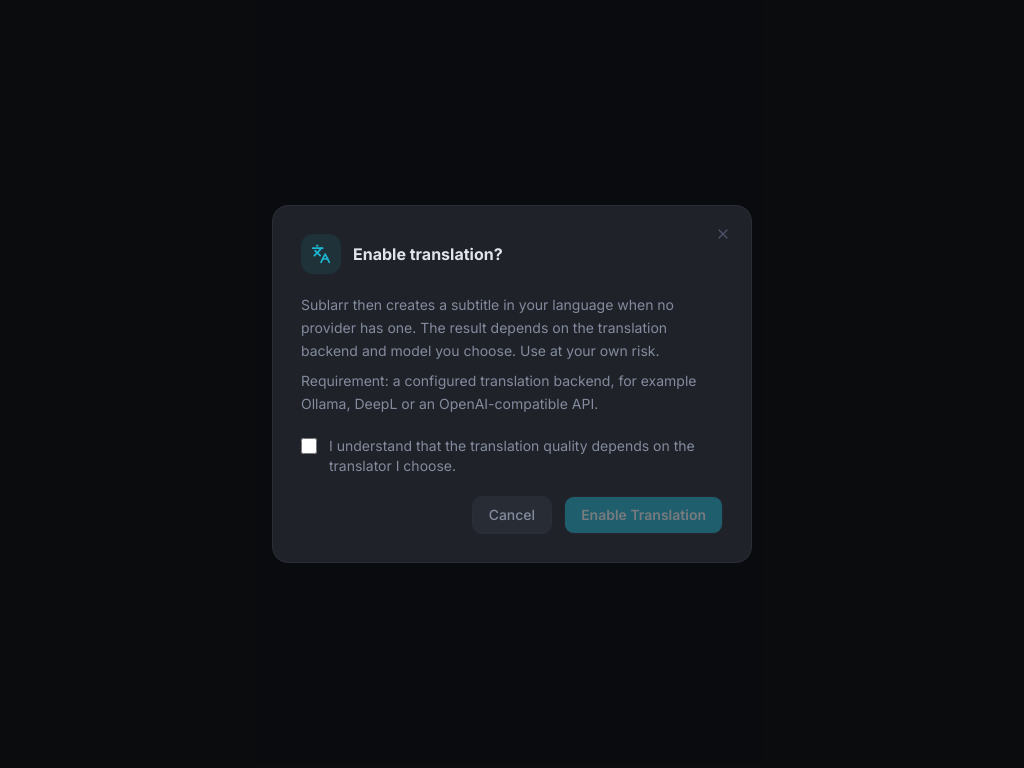
EnableTranslationModal › Enable button is disabled until checkbox is checked
Expected: the button "Enable Translation" is disabled, [564, 496, 723, 534]
What coordinates should you click on to do the following:
click the checkbox
I would click on:
 (309, 446)
Its box is [301, 438, 317, 454].
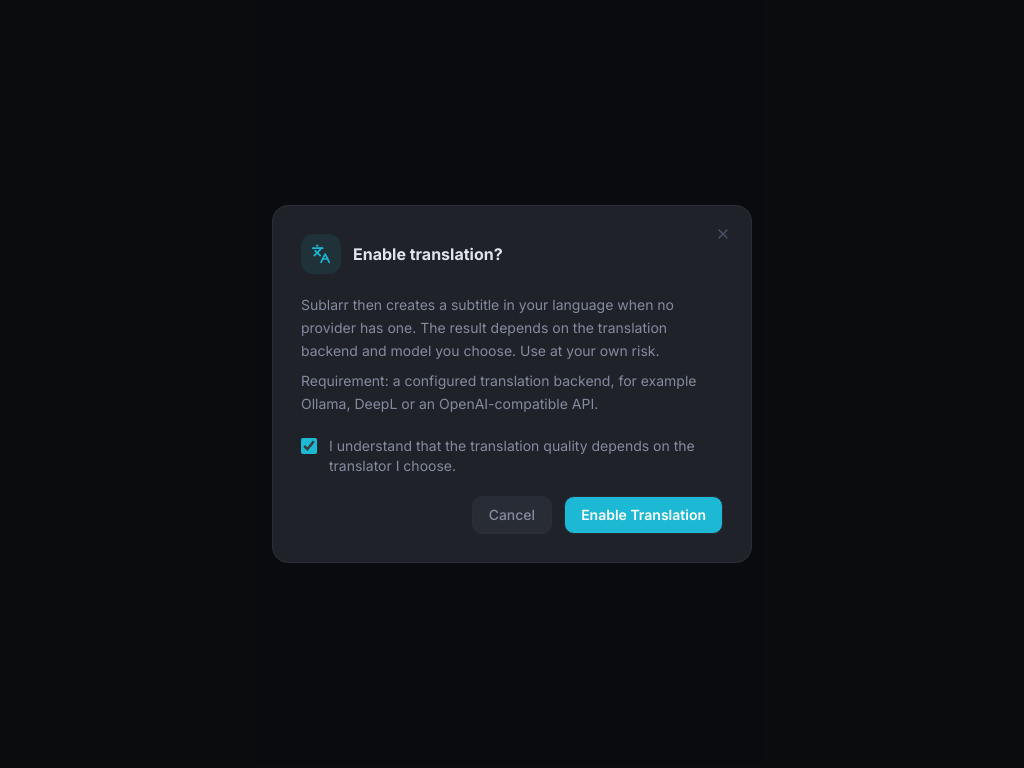
Expected: the button "Enable Translation" is enabled, [564, 496, 723, 534]
